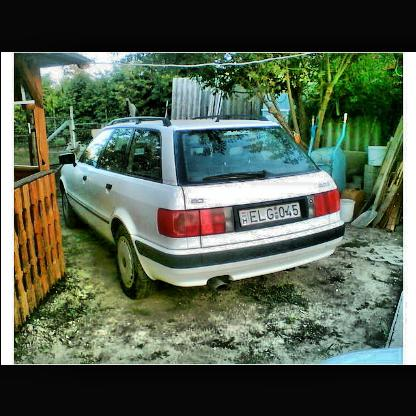Audi 100 Wagon 1994: (60, 116, 346, 300)
